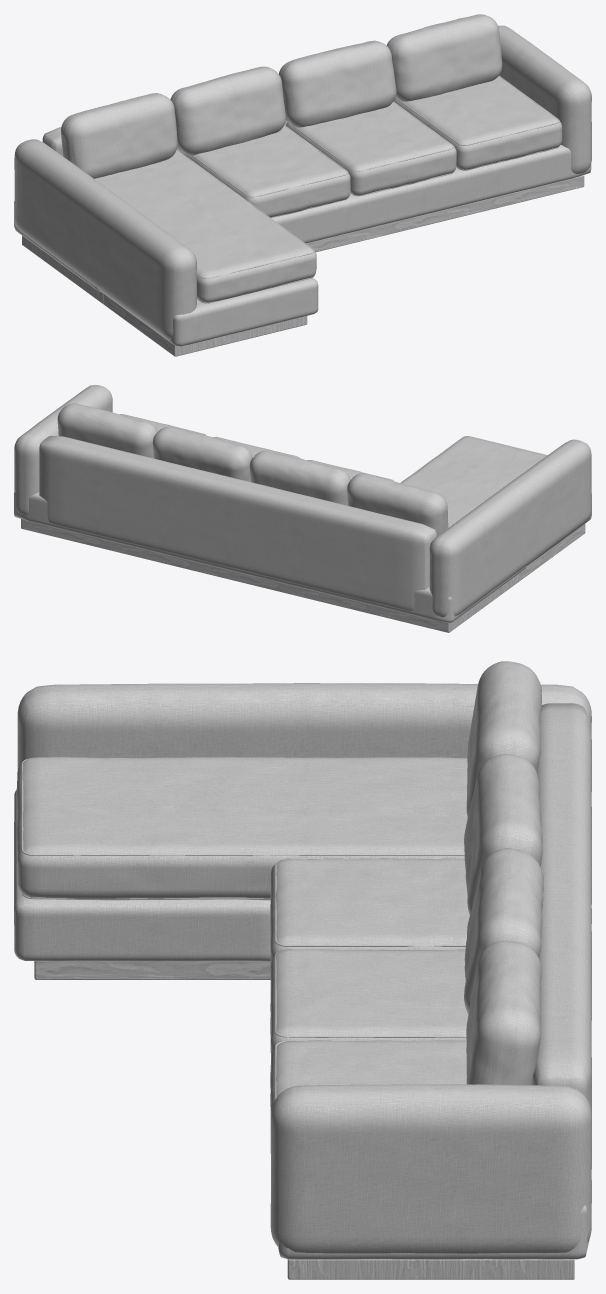
File: sofa-l-3.0m.gltf
3 views of the same model, one above another, from view 1: azimuth 30°, elevation 25°; view 2: azimuth 150°, elevation 25°; view 3: azimuth 270°, elevation 25° (orthographic). The views are drawn at different scales.
Visible parts, largest first — view 1: sofa-l; view 2: sofa-l; view 3: sofa-l.
Part boxes in pixels (x1=…): sofa-l: x1=14, y1=14, x2=591, y2=356; sofa-l: x1=14, y1=385, x2=591, y2=632; sofa-l: x1=14, y1=661, x2=591, y2=1279.
Size of the model in its own units: 3 by 0.7818 by 1.71.
2 materials, 2 textured.
